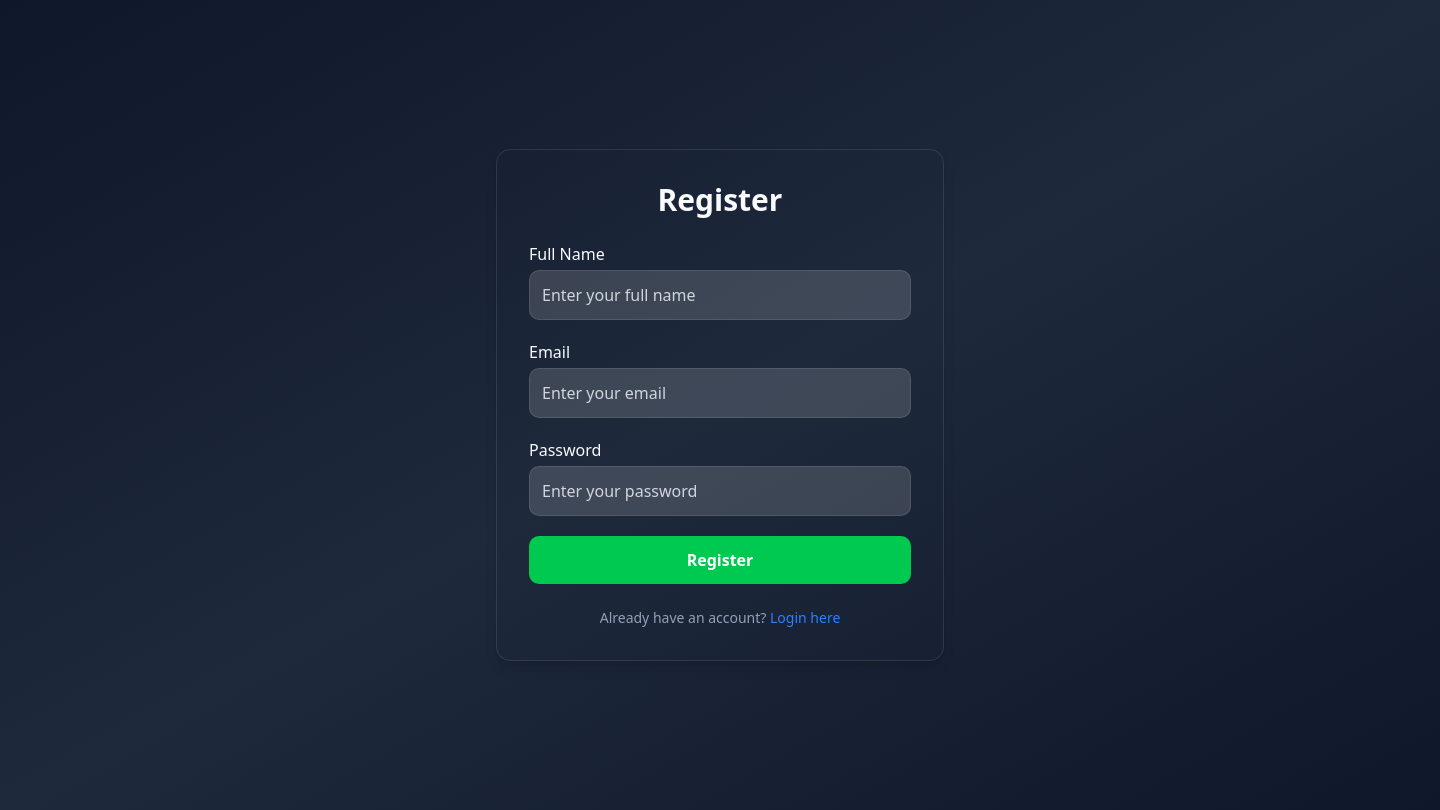
Test case: Register Page › Error Handling › displays error message when email already exists
Type "John Doe" into the field with placeholder "Enter your full name".
click(720, 295); type("John Doe")  # box [529,270,911,320]
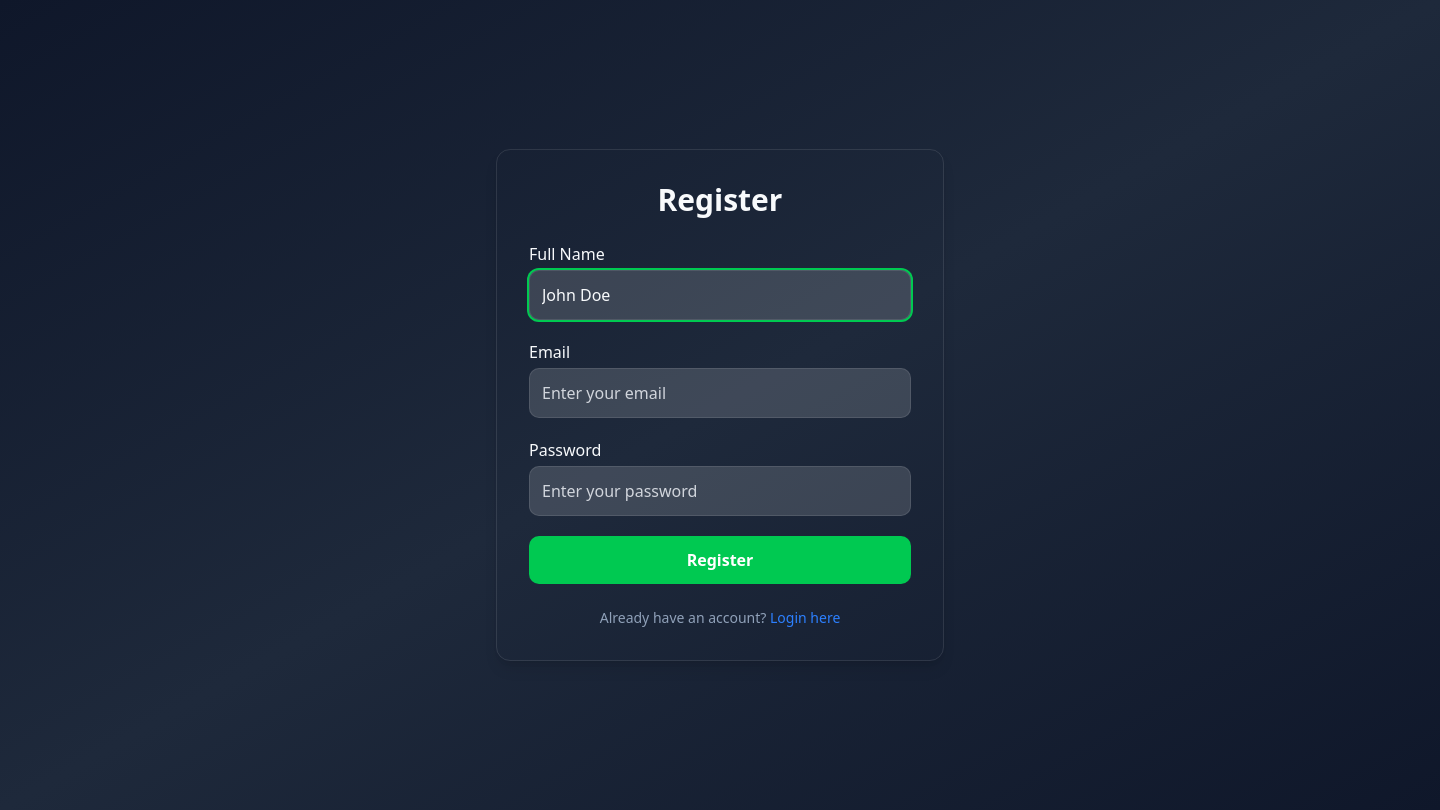
Type "existing@example.com" into the field with placeholder "Enter your email".
click(720, 393); type("existing@example.com")  # box [529,368,911,418]
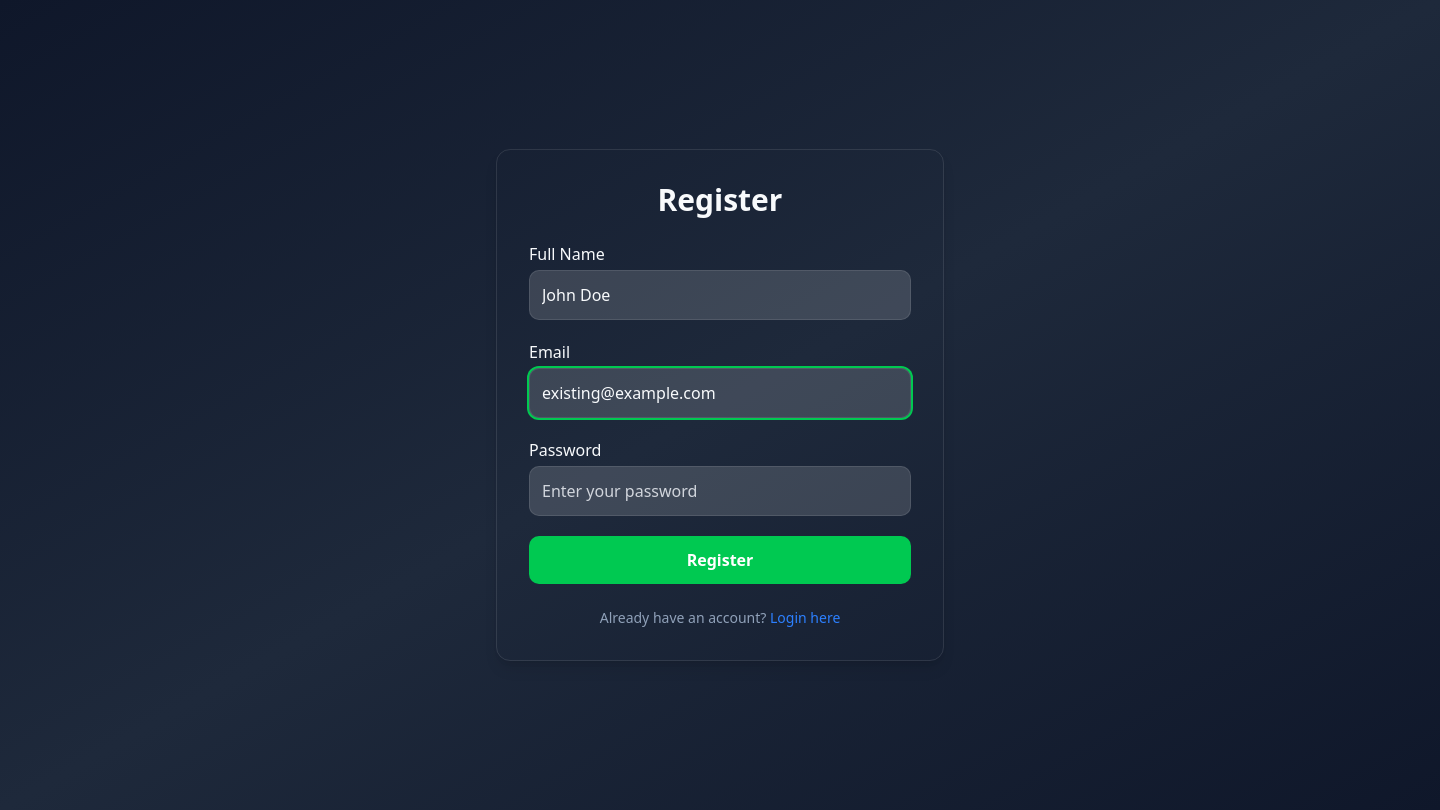
Type "Password123!" into the password field with placeholder "Enter your password".
click(720, 491); type("Password123!")  # box [529,466,911,516]
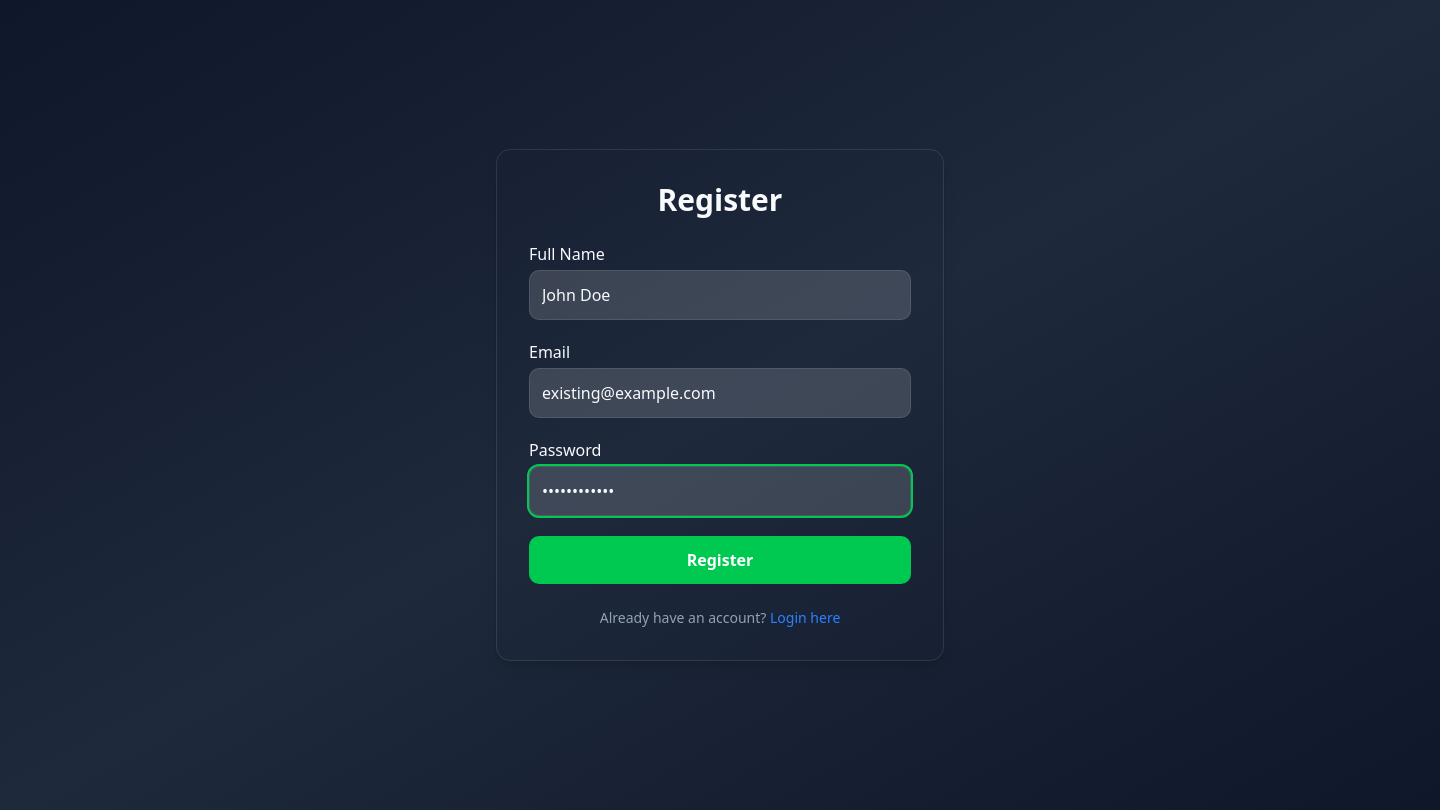
Click the button "Register".
click(720, 560)  # box [529,536,911,584]
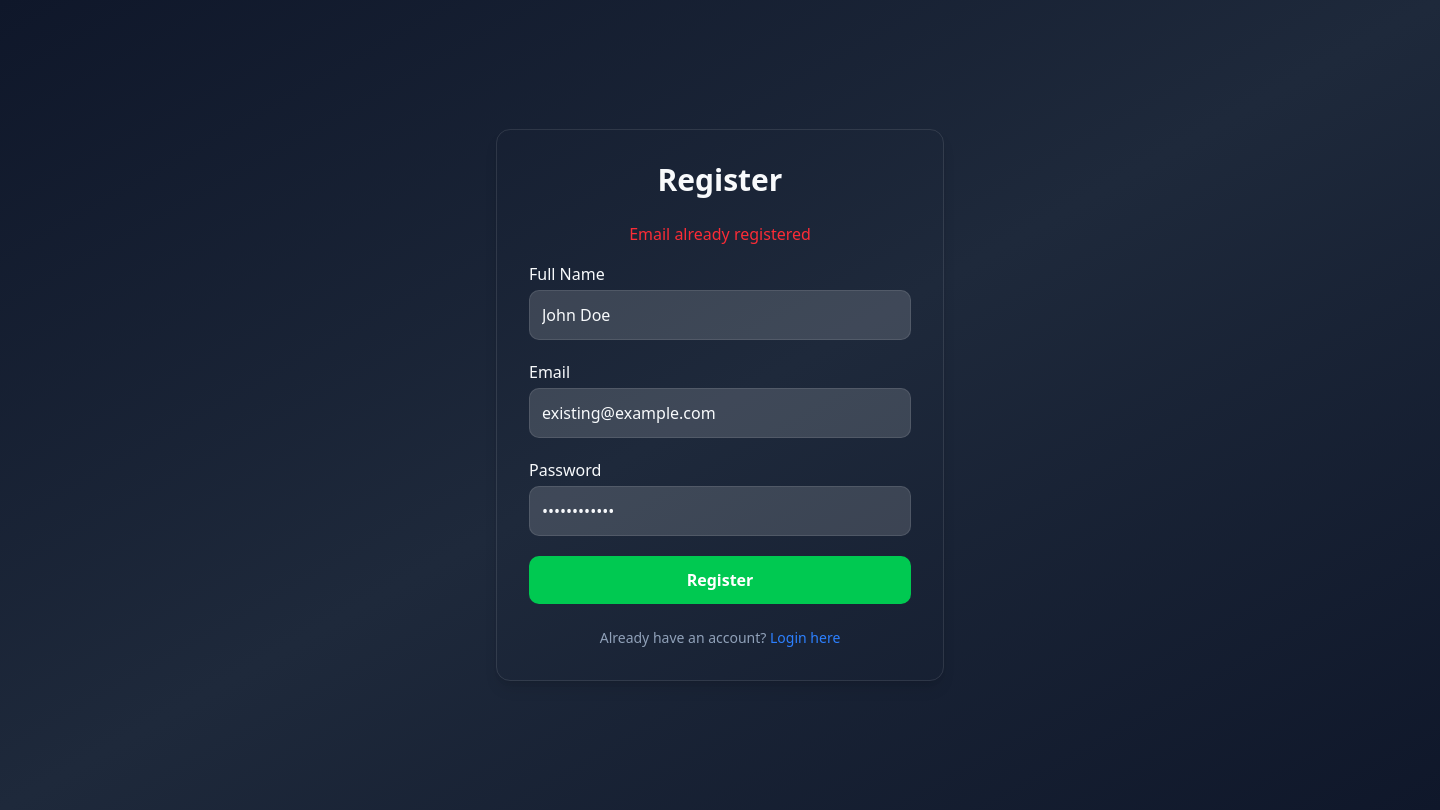
Check: the text "Email already registered" is shown, box [629,223,811,245]
